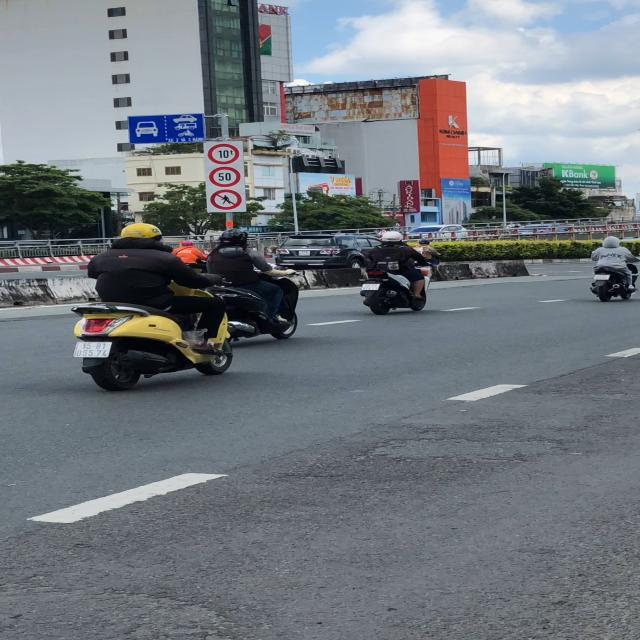Bien bao cam nguoi di bo: (209, 189, 244, 211)
Bien bao toc do toi da cho phep: (208, 165, 244, 188)
